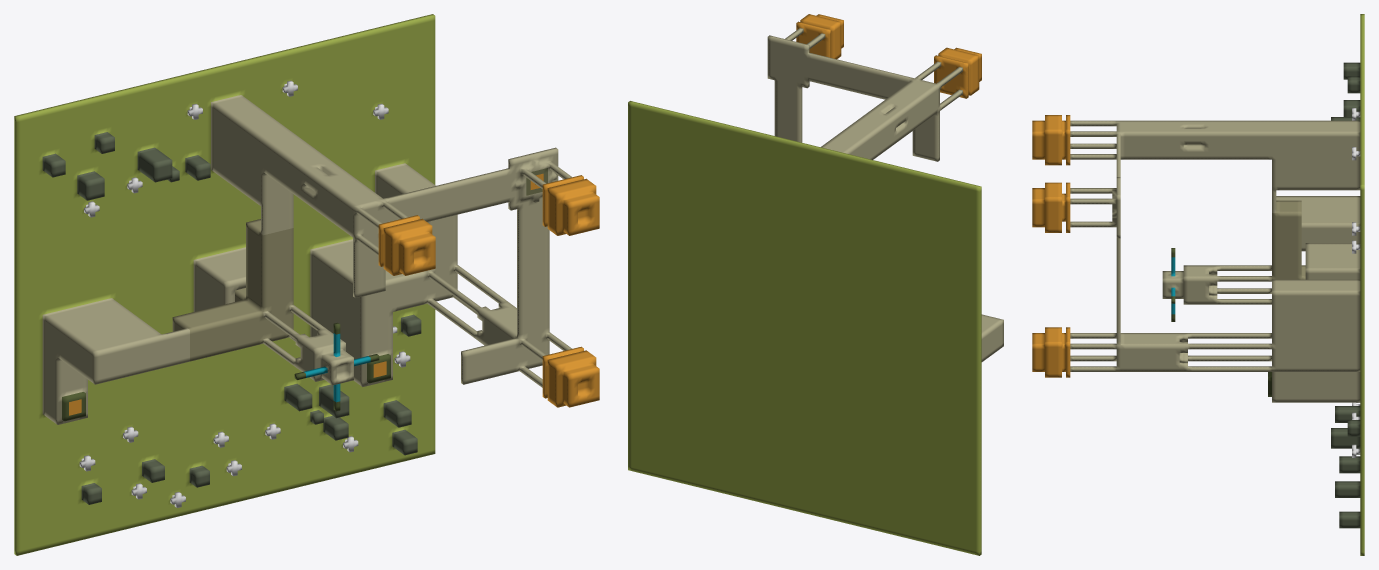
The model's file is monument9.dae.
3 renders of one model, left to right at view 1: azimuth 30°, elevation 25°; view 2: azimuth 150°, elevation 25°; view 3: azimuth 270°, elevation 25°, orthographic. The views are drawn at different scales.
Visible parts, largest first — view 1: Node_0x209e9650; view 2: Node_0x209e9650; view 3: Node_0x209e9650.
Part boxes in pixels (bbox=[...]): Node_0x209e9650: bbox=[14, 14, 599, 555]; Node_0x209e9650: bbox=[628, 14, 1003, 555]; Node_0x209e9650: bbox=[1032, 14, 1364, 555].
Bounding box in the file's own units: 97 × 97 × 79.
